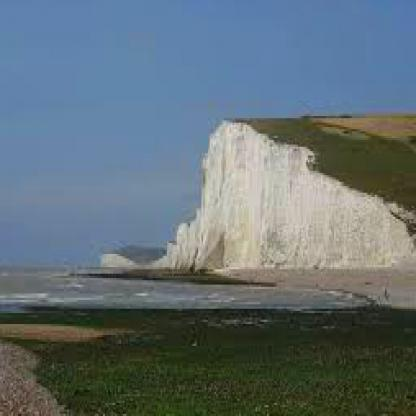Sedimentary_Chalk: (175, 153, 295, 263), (305, 204, 380, 258), (98, 245, 156, 267)
